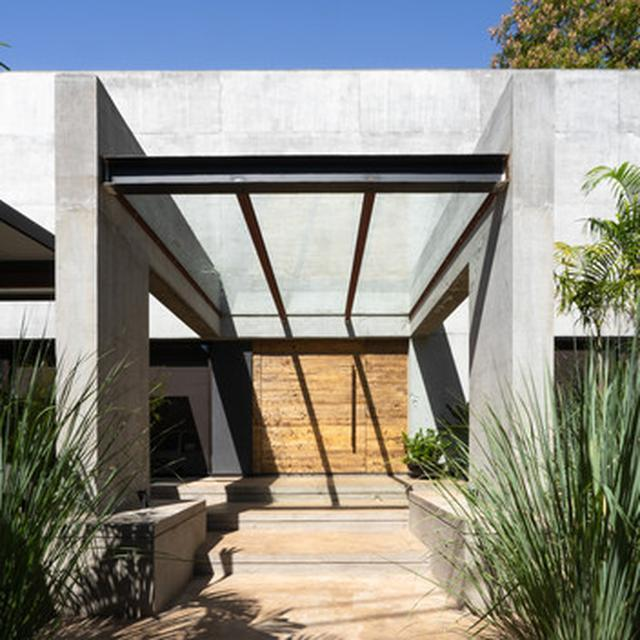building: (0, 69, 640, 470)
